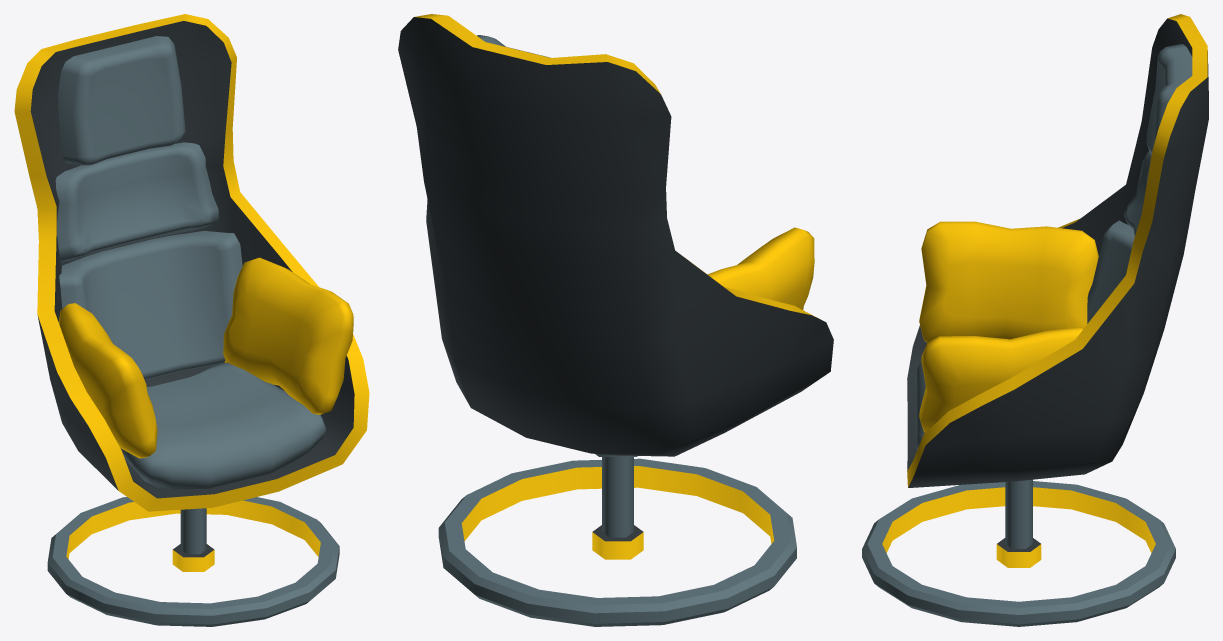
Rendered from Armchair_004.glb.
3 renders of one model, left to right at view 1: azimuth 30°, elevation 25°; view 2: azimuth 150°, elevation 25°; view 3: azimuth 270°, elevation 25°, orthographic. The views are drawn at different scales.
Visible parts, largest first — view 1: Armchair_004; view 2: Armchair_004; view 3: Armchair_004.
Part boxes in pixels (<box>): Armchair_004: <box>14,14,369,626</box>; Armchair_004: <box>398,14,833,626</box>; Armchair_004: <box>862,14,1208,626</box>.
Bounding box in the file's own units: 0.8817 × 1.43 × 0.8835.
2 materials, 2 textured.
